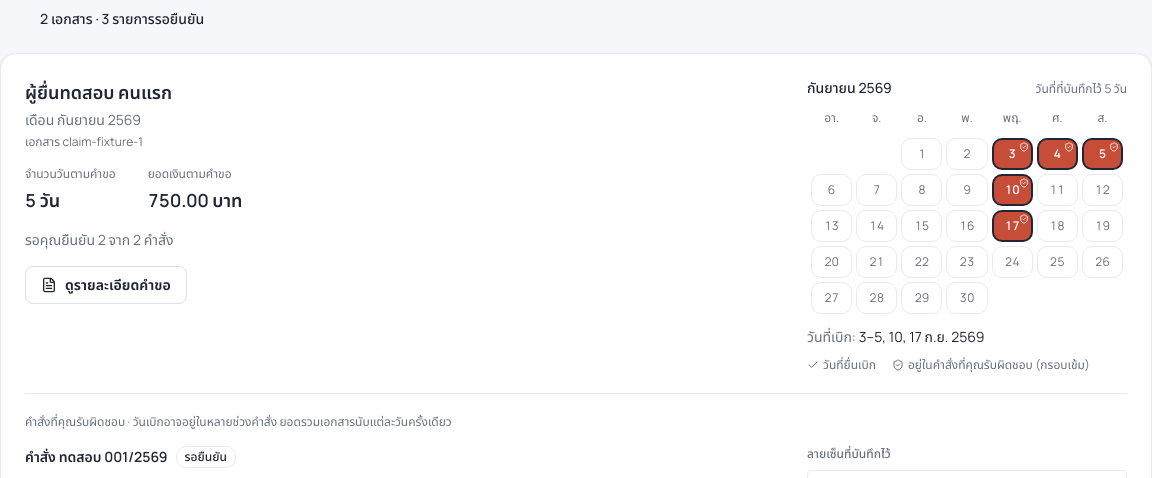
leader queue document review › does not replace a newly opened claim with a late response for the previous claim
Click the button "ดูรายละเอียดคำขอ" at coordinates (106, 285), box [25,266,187,304]
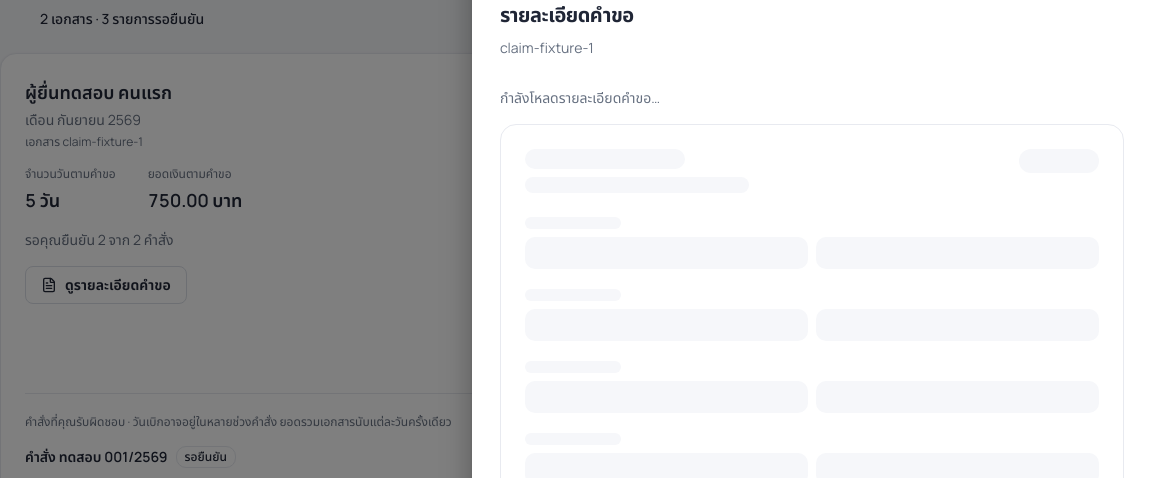
Press Escape
(page scrolled)
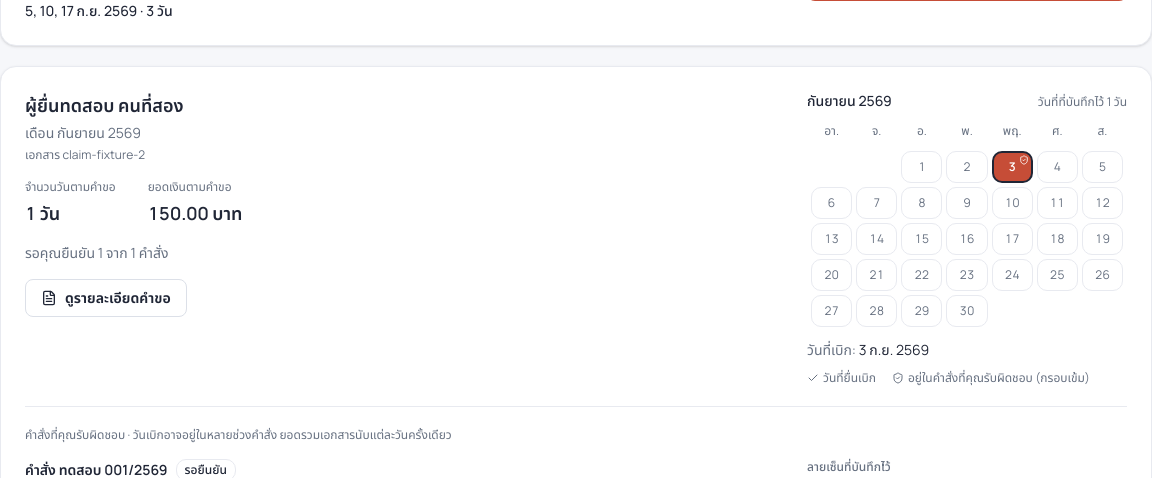
Click the button "ดูรายละเอียดคำขอ" at coordinates (106, 298), box [25,279,187,317]
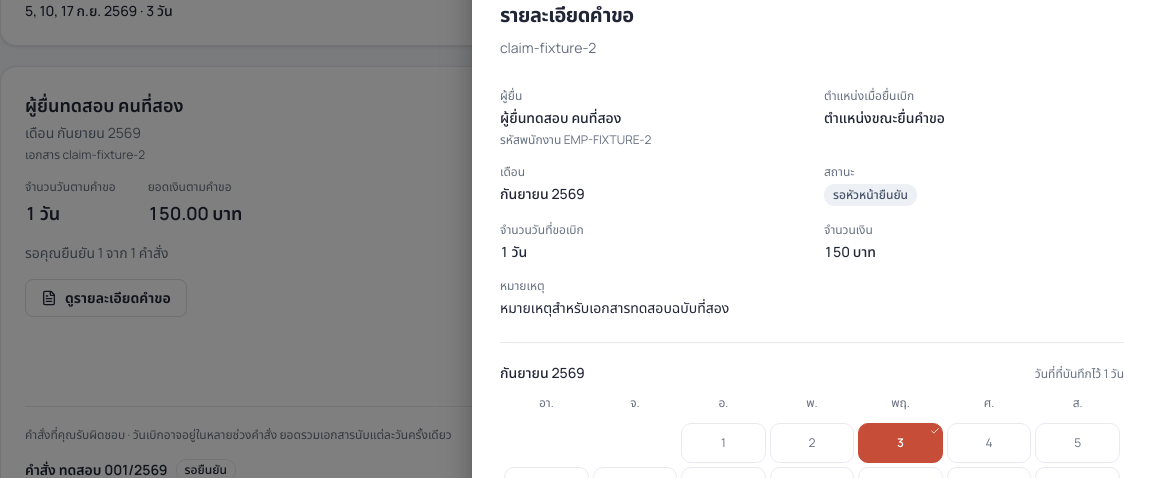
Expected: the text "หมายเหตุสำหรับเอกสารทดสอบฉบับที่สอง" is shown, [500,298,729,317]
